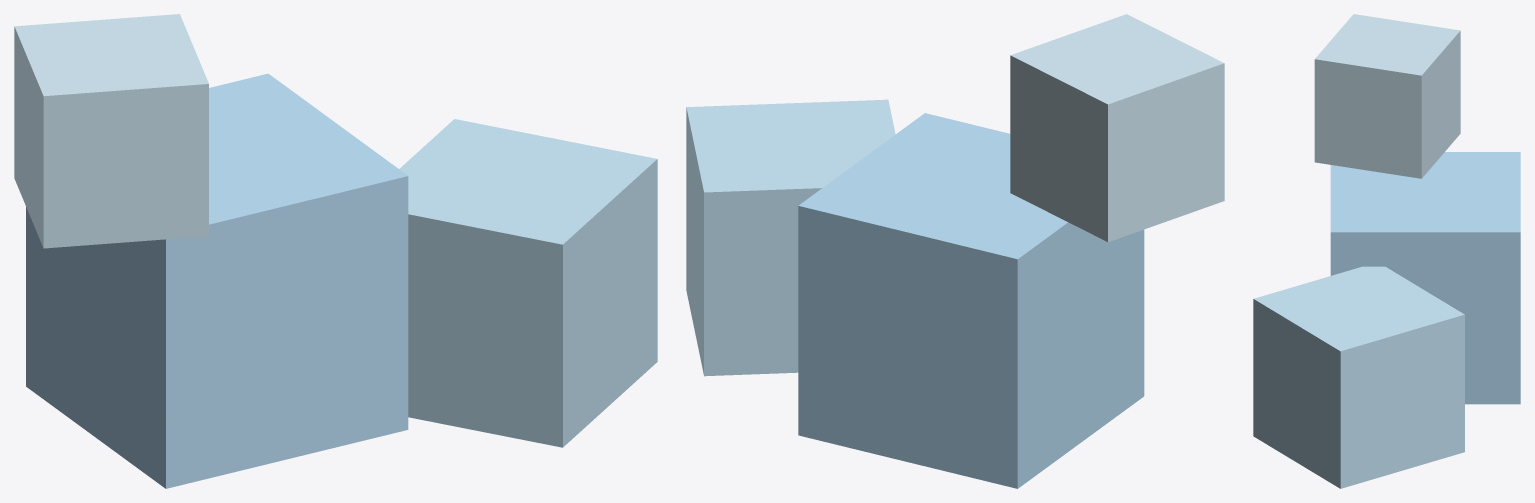
The model's file is ice.glb.
3 views of the same model, side by side, from view 1: azimuth 30°, elevation 25°; view 2: azimuth 150°, elevation 25°; view 3: azimuth 270°, elevation 25° (orthographic). The views are drawn at different scales.
Parts seen in each view (by area): view 1: ice; view 2: ice; view 3: ice.
Part boxes in pixels (x1,y1,x2,y2): ice: [14, 14, 657, 488]; ice: [686, 14, 1224, 488]; ice: [1253, 14, 1520, 488].
Bounding box in the file's own units: 2.49 × 1.6 × 1.41.
